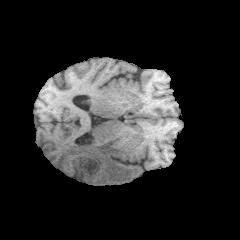glioma: (64, 137, 140, 182)
